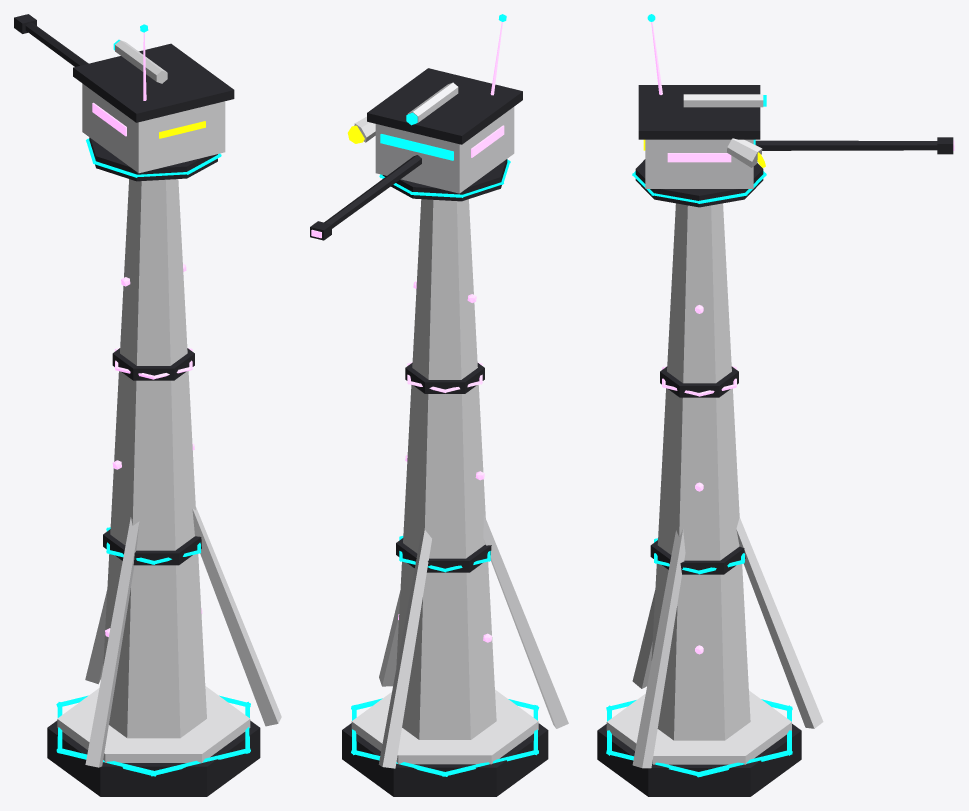
File: OverwatchSpire.fbx
The picture shows the model from 3 angles, left to right: view 1: azimuth 30°, elevation 25°; view 2: azimuth 150°, elevation 25°; view 3: azimuth 270°, elevation 25°; orthographic projection. The views are drawn at different scales.
Parts seen in each view (by area): view 1: OverS_Spire, OverS_CabinRoof, Over_Base.001, OverS_Cabin, Over_BaseTop, OverS_Fin1, OverS_Fin2, OverS_NestFloor, Over_BaseGlow, OverS_Band0, OverS_Band1, OverS_Fin0 (+3 smaller); view 2: OverS_Spire, Over_Base.001, OverS_CabinRoof, Over_BaseTop, OverS_Cabin, OverS_Fin0, OverS_Fin1, OverS_NestFloor, Over_BaseGlow, OverS_Barrel, OverS_Band0, OverS_Band1 (+4 smaller); view 3: OverS_Spire, Over_Base.001, OverS_CabinRoof, Over_BaseTop, OverS_Cabin, OverS_Fin2, OverS_Fin0, OverS_Barrel, OverS_NestFloor, Over_BaseGlow, OverS_Band0, OverS_Scope (+4 smaller).
Part boxes in pixels (bbox=[...]): OverS_Spire: bbox=[103, 179, 206, 738]; OverS_CabinRoof: bbox=[73, 43, 234, 122]; Over_Base.001: bbox=[47, 720, 260, 796]; OverS_Cabin: bbox=[82, 83, 225, 173]; Over_BaseTop: bbox=[57, 686, 250, 762]; OverS_Fin1: bbox=[85, 517, 139, 767]; OverS_Fin2: bbox=[192, 506, 281, 726]; OverS_NestFloor: bbox=[89, 137, 217, 181]; Over_BaseGlow: bbox=[56, 695, 250, 776]; OverS_Band0: bbox=[103, 529, 201, 565]; OverS_Band1: bbox=[112, 348, 194, 380]; OverS_Fin0: bbox=[85, 590, 107, 684]; OverS_Spire: bbox=[396, 199, 496, 739]; Over_Base.001: bbox=[342, 723, 548, 796]; OverS_CabinRoof: bbox=[367, 68, 522, 144]; Over_BaseTop: bbox=[351, 689, 538, 764]; OverS_Cabin: bbox=[375, 107, 514, 193]; OverS_Fin0: bbox=[378, 530, 431, 768]; OverS_Fin1: bbox=[483, 514, 568, 728]; OverS_NestFloor: bbox=[382, 159, 507, 201]; Over_BaseGlow: bbox=[351, 698, 539, 776]; OverS_Barrel: bbox=[324, 155, 421, 228]; OverS_Band0: bbox=[396, 538, 491, 572]; OverS_Band1: bbox=[405, 362, 484, 393]; OverS_Spire: bbox=[651, 203, 750, 740]; Over_Base.001: bbox=[597, 724, 801, 796]; OverS_CabinRoof: bbox=[638, 85, 760, 139]; Over_BaseTop: bbox=[606, 690, 791, 764]; OverS_Cabin: bbox=[645, 139, 753, 188]; OverS_Fin2: bbox=[632, 529, 685, 768]; OverS_Fin0: bbox=[736, 517, 823, 728]; OverS_Barrel: bbox=[755, 140, 937, 150]; OverS_NestFloor: bbox=[635, 159, 763, 207]; Over_BaseGlow: bbox=[606, 699, 792, 777]; OverS_Band0: bbox=[650, 540, 745, 574]; OverS_Scope: bbox=[683, 94, 763, 107].
Bounding box in the file's own units: 0.6809 × 2.52 × 1.12.
